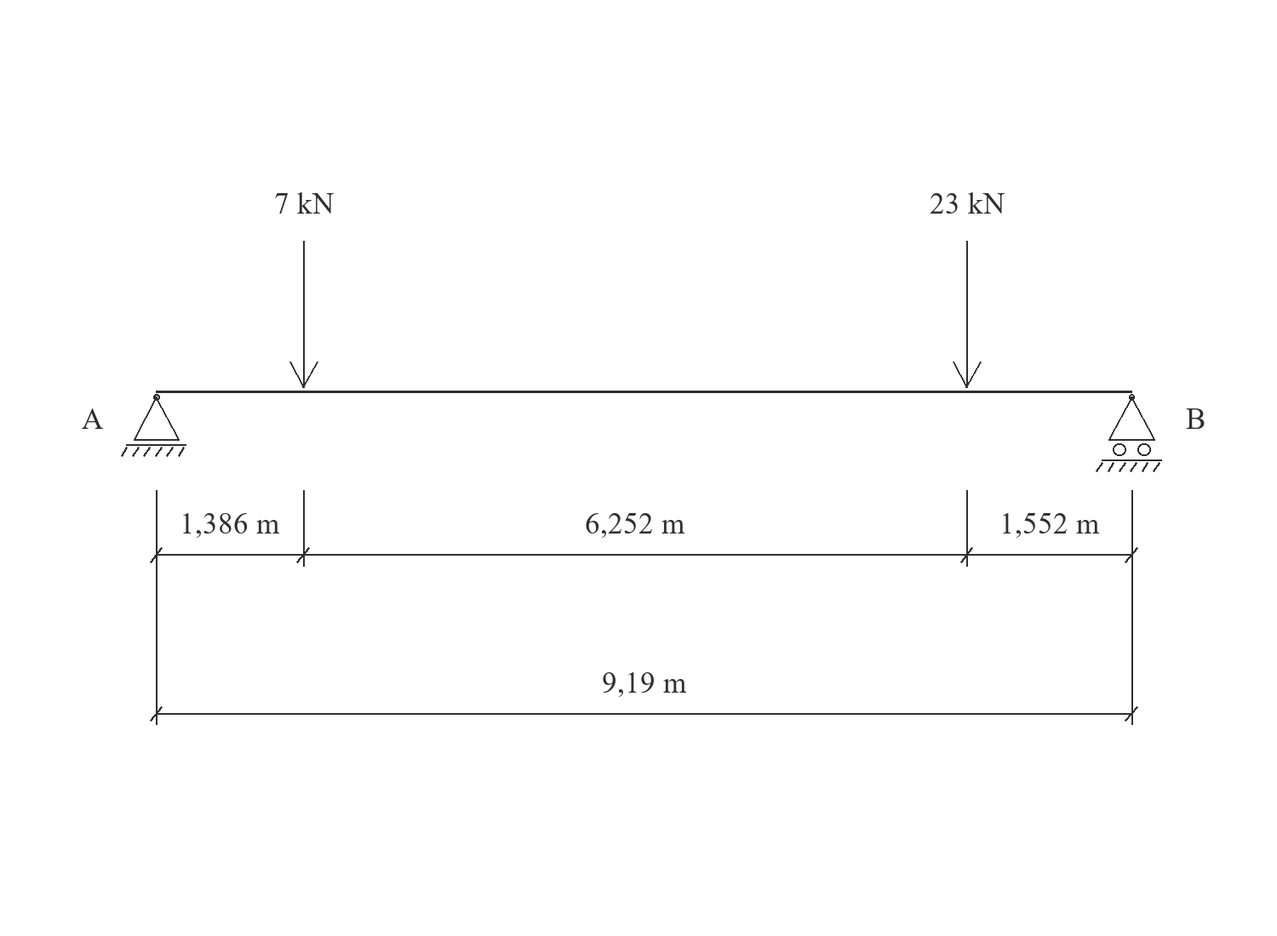pin_support: (121, 394, 186, 457)
point_load: (289, 241, 318, 388), (953, 241, 982, 388)
roller_support: (1096, 394, 1162, 472)
